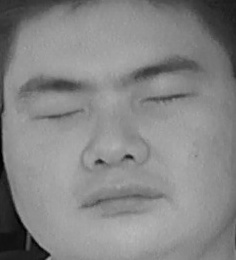blink: (28, 98, 84, 133), (142, 79, 195, 112)
mouth: (77, 175, 168, 222)
